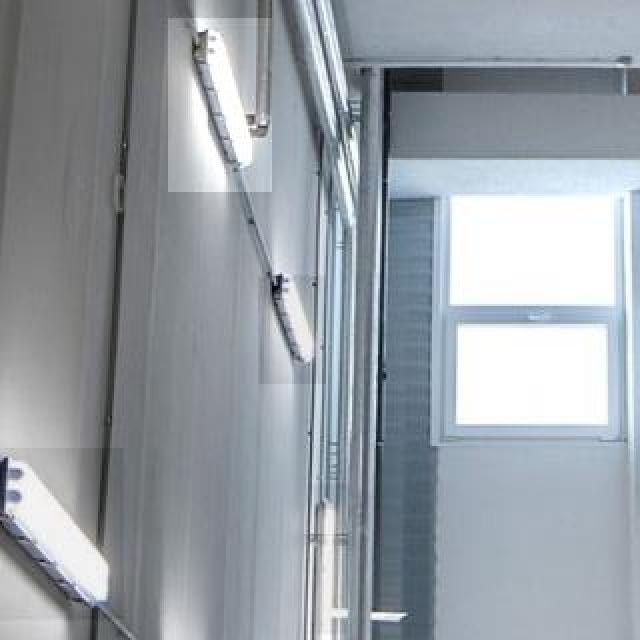fluorescent tube: (0, 426, 140, 622), (180, 0, 270, 200), (240, 240, 333, 384)
